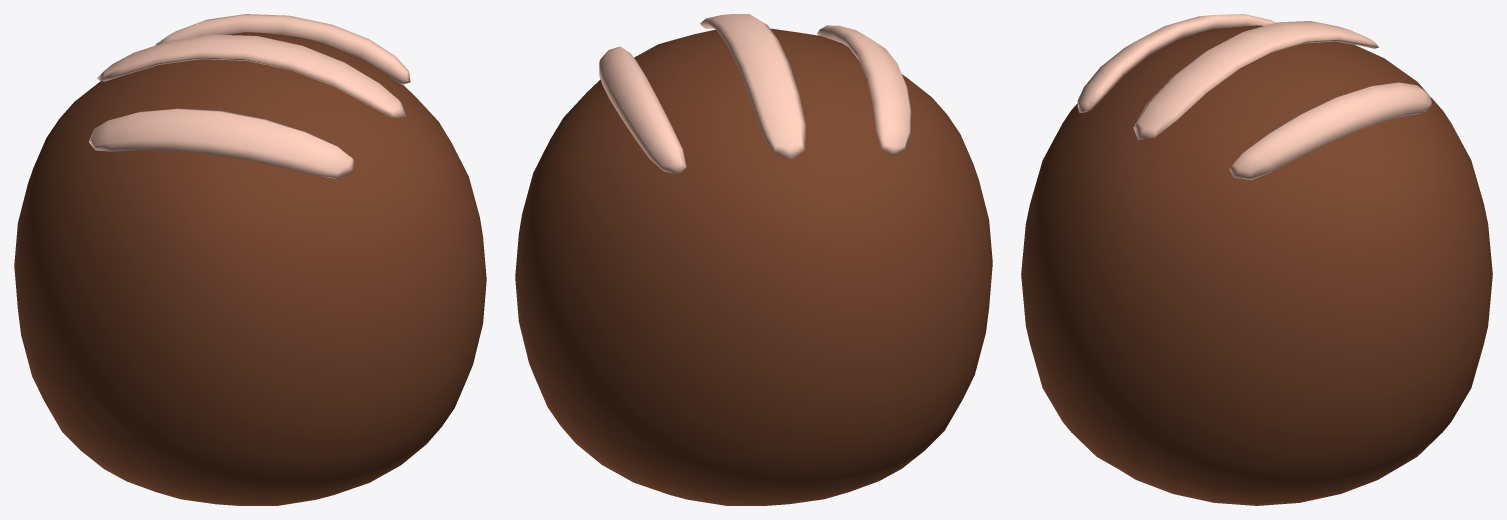
File: Truffle_02.fbx
The picture shows the model from 3 angles, left to right: view 1: azimuth 30°, elevation 25°; view 2: azimuth 150°, elevation 25°; view 3: azimuth 270°, elevation 25°; orthographic projection.
Visible parts, largest first — view 1: Truffle_02_LOD0; view 2: Truffle_02_LOD0; view 3: Truffle_02_LOD0.
Part boxes in pixels (left/top/right/bottom): Truffle_02_LOD0: left=14, top=14, right=486, bottom=505; Truffle_02_LOD0: left=515, top=14, right=992, bottom=505; Truffle_02_LOD0: left=1021, top=14, right=1492, bottom=505.
Size of what is drawn, in the model's own units: 396 by 403 by 396.
